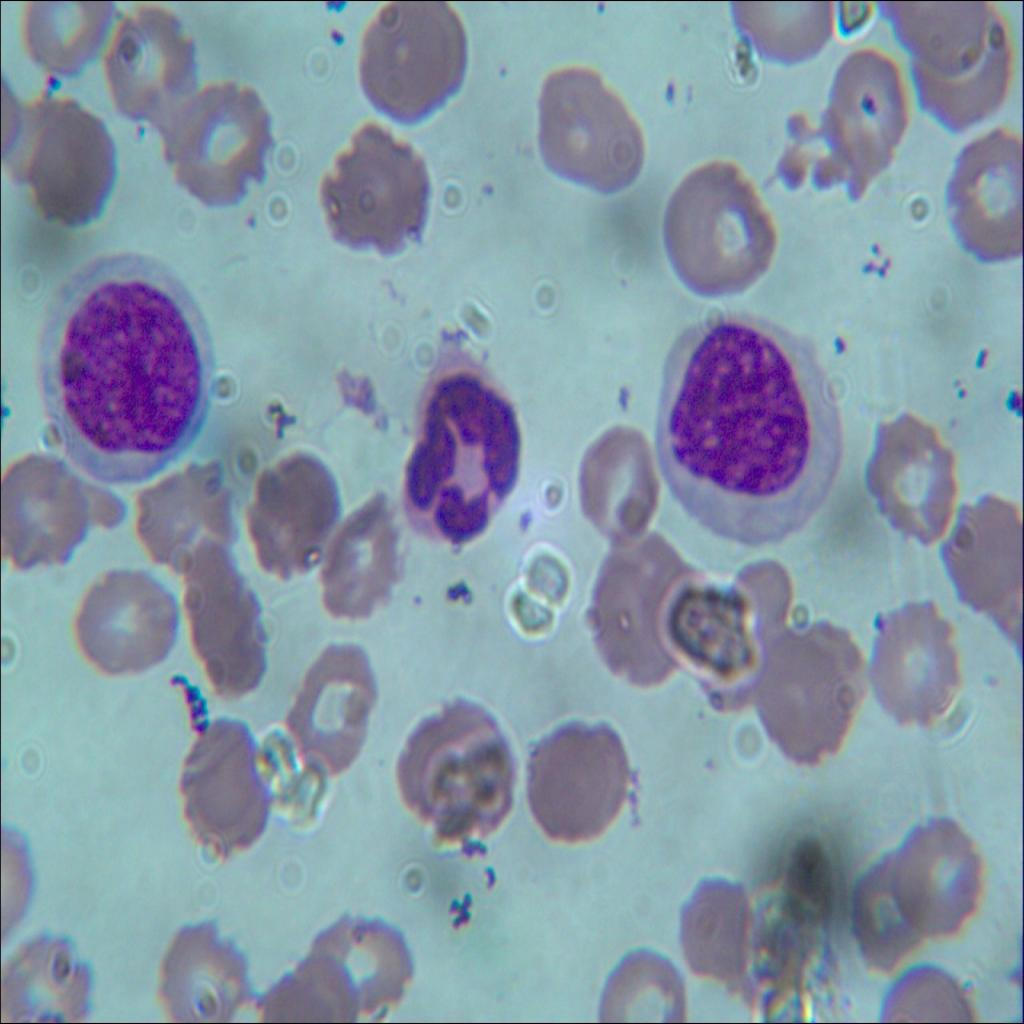Eritrosit: (651, 151, 782, 304), (389, 694, 515, 847), (318, 122, 431, 268), (516, 711, 630, 844), (153, 82, 270, 211), (590, 542, 698, 674), (350, 1, 458, 132), (538, 65, 643, 194), (303, 502, 409, 628), (284, 636, 378, 778), (172, 728, 278, 847), (186, 548, 273, 692), (948, 121, 1023, 288), (720, 554, 798, 714), (76, 562, 178, 684), (0, 452, 108, 566), (914, 11, 1018, 128), (868, 598, 961, 728), (758, 632, 851, 760), (824, 44, 906, 184), (104, 5, 196, 127), (132, 464, 234, 574), (310, 906, 416, 1008), (895, 809, 982, 930), (249, 441, 331, 564), (158, 911, 248, 1023), (26, 111, 116, 222), (578, 431, 668, 535), (870, 414, 946, 528), (18, 0, 118, 82), (851, 852, 924, 959), (673, 877, 750, 978), (0, 938, 94, 1018), (593, 947, 689, 1023), (955, 498, 1023, 605), (263, 957, 351, 1023)
Limfoblast: (652, 310, 850, 566), (22, 254, 216, 491)
Neutrofil: (396, 348, 524, 554)
Platelet: (396, 561, 431, 632), (819, 321, 856, 374), (31, 54, 66, 104), (508, 484, 538, 541), (602, 372, 639, 415), (656, 68, 683, 118), (324, 8, 346, 56), (1003, 381, 1023, 429), (468, 177, 502, 201)
